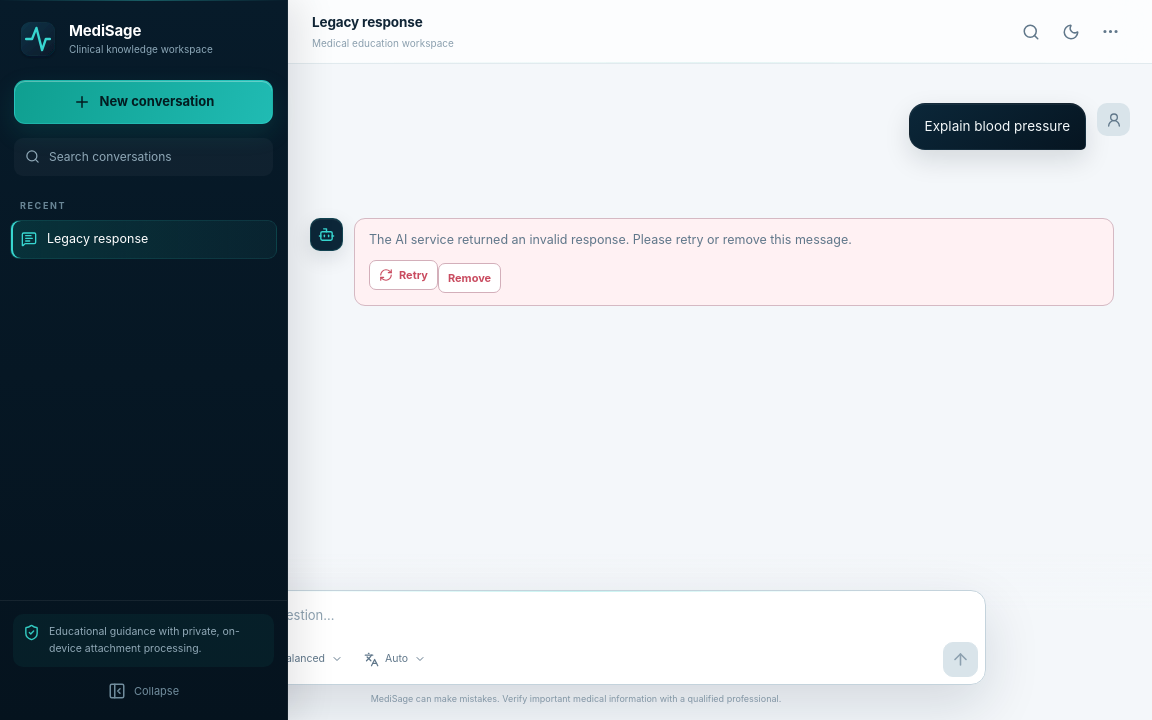
Test: conversation isolation and retry › replaces stored Hosting HTML with a removable local error card
Expected: the text "The AI service returned an invalid response. Please retry or remove this message." is shown, x1=369 y1=232 x2=852 y2=247
Click the button "Remove": [470, 278] box x1=438 y1=263 x2=501 y2=293
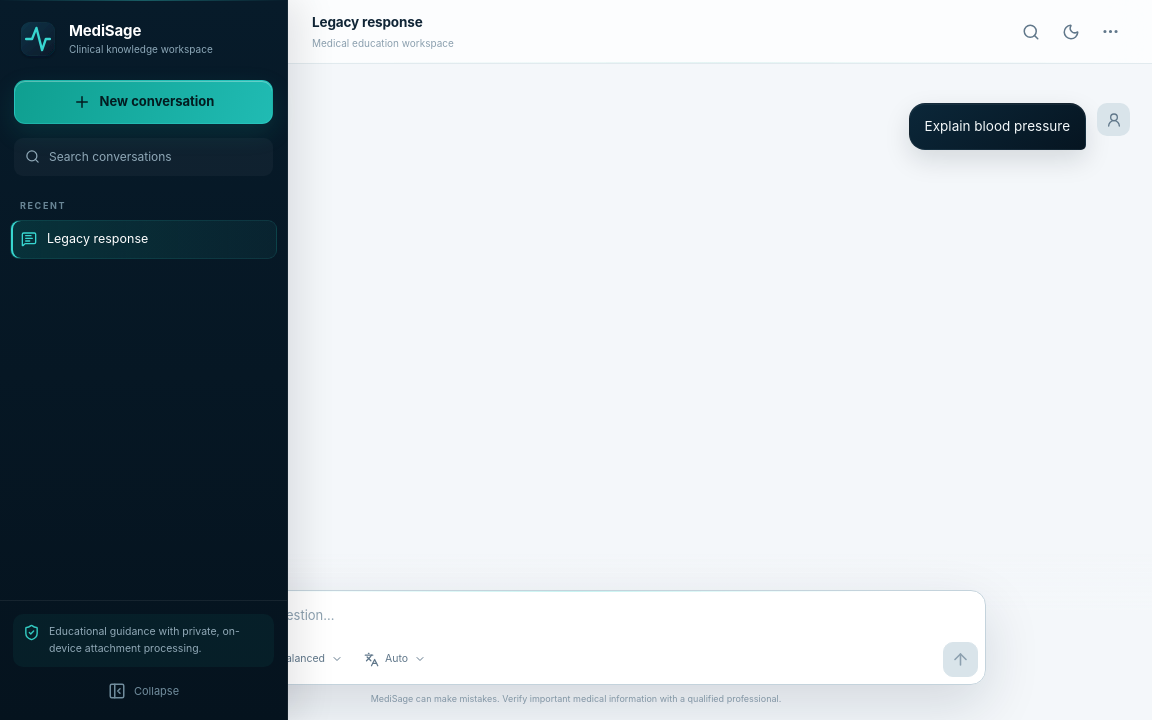
Expected: the text "The AI service returned an invalid response. Please retry or remove this message." is gone
